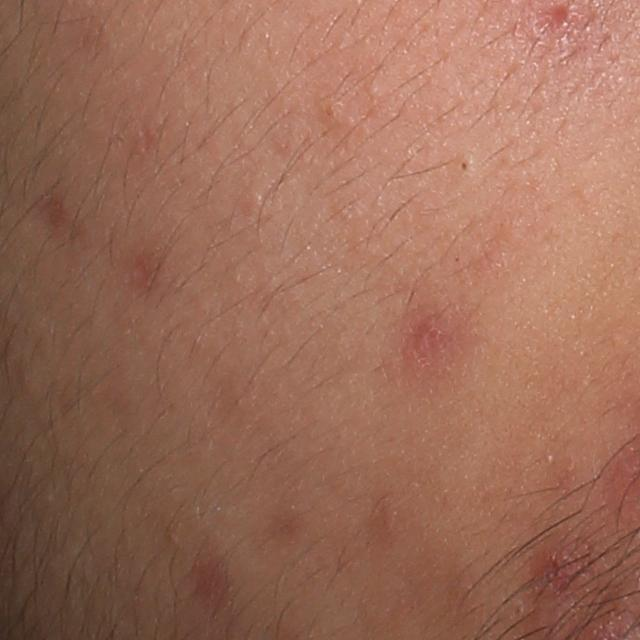comedo: (314, 94, 349, 125), (452, 152, 479, 181), (369, 81, 384, 102)
